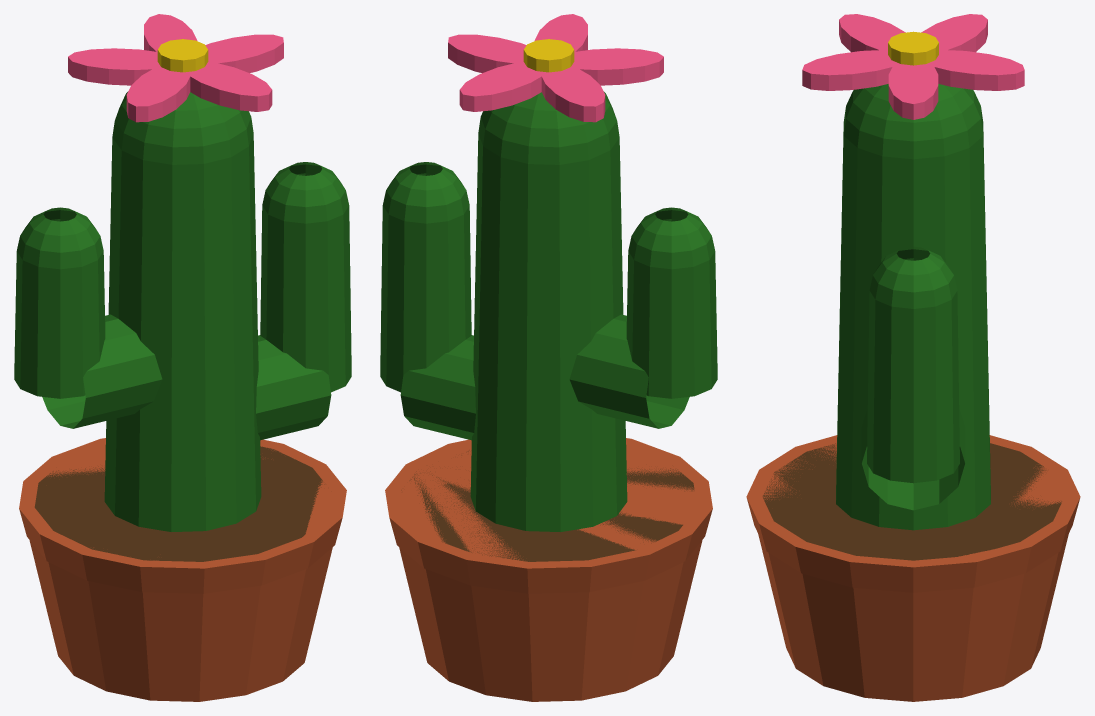
The model's file is Cactus.fbx.
The picture shows the model from 3 angles, left to right: view 1: azimuth 30°, elevation 25°; view 2: azimuth 150°, elevation 25°; view 3: azimuth 270°, elevation 25°; orthographic projection.
Visible parts, largest first — view 1: Trunk, Pot, Rim, Soil, ArmRV, ArmLV, TrunkTop, ArmLH, ArmRH, ArmRTop, ArmLTop, Petal4 (+5 smaller); view 2: Trunk, Pot, Rim, ArmRV, ArmLV, Soil, TrunkTop, ArmLH, ArmRH, ArmRTop, ArmLTop, Petal1 (+5 smaller); view 3: Trunk, Pot, ArmRV, Soil, Rim, TrunkTop, ArmRTop, Petal1, Petal4, ArmRH, Petal0, Petal3 (+2 smaller).
Part boxes in pixels (x1,y1,x2,y2): Trunk: [104, 134, 261, 531]; Pot: [29, 540, 332, 701]; Rim: [19, 438, 346, 593]; Soil: [34, 446, 324, 561]; ArmRV: [260, 205, 351, 392]; ArmLV: [14, 251, 105, 398]; TrunkTop: [112, 92, 253, 164]; ArmLH: [42, 314, 162, 428]; ArmRH: [256, 335, 331, 440]; ArmRTop: [262, 162, 348, 223]; ArmLTop: [17, 207, 103, 269]; Petal4: [190, 62, 272, 111]; Trunk: [470, 134, 627, 531]; Pot: [399, 540, 702, 701]; Rim: [385, 438, 712, 593]; ArmRV: [380, 205, 471, 392]; ArmLV: [626, 251, 717, 398]; Soil: [401, 450, 694, 561]; TrunkTop: [478, 92, 619, 164]; ArmLH: [569, 314, 689, 428]; ArmRH: [400, 335, 475, 440]; ArmRTop: [383, 162, 469, 223]; ArmLTop: [628, 207, 714, 269]; Petal1: [459, 63, 545, 111]; Trunk: [836, 132, 990, 530]; Pot: [758, 534, 1068, 701]; ArmRV: [867, 291, 959, 483]; Soil: [762, 443, 1061, 560]; Rim: [746, 435, 1080, 592]; TrunkTop: [843, 84, 983, 159]; ArmRTop: [869, 246, 957, 308]; Petal1: [930, 50, 1024, 90]; Petal4: [802, 50, 899, 90]; ArmRH: [861, 409, 965, 510]; Petal0: [888, 62, 938, 119]; Petal3: [839, 14, 905, 52].
Size of the model in its own units: 47.7 by 84 by 42.
5 materials, 5 textured.
